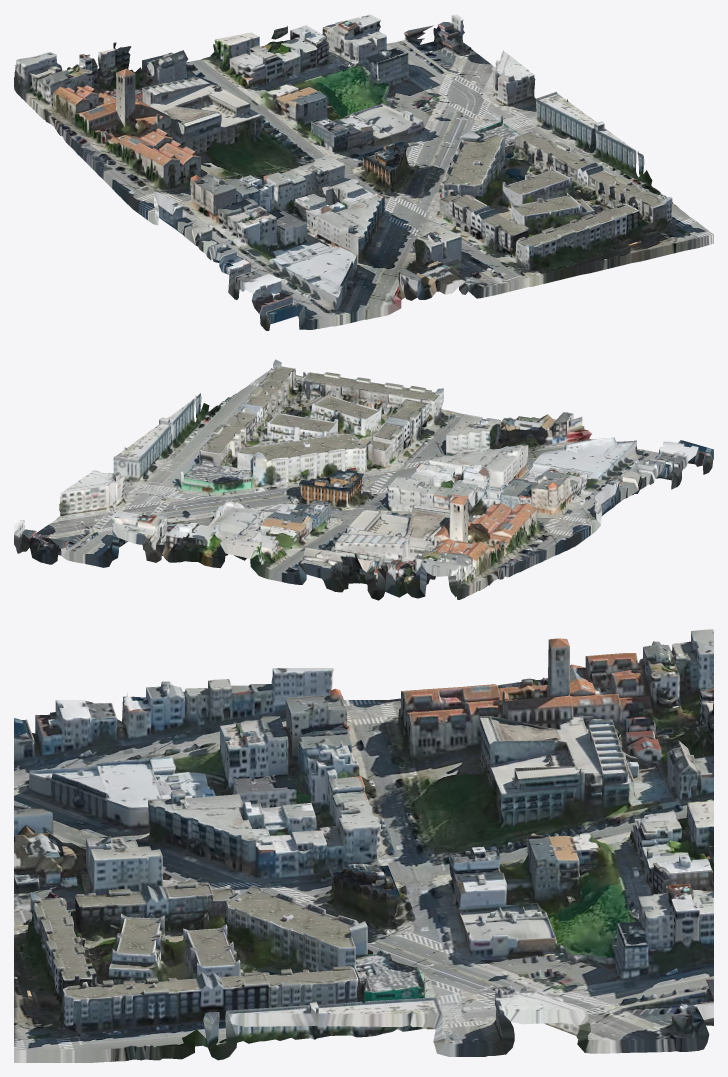
File: z17-20965-50648-h0-yup-uvflip-v3-world.glb
The picture shows the model from 3 angles, top to bottom: view 1: azimuth 30°, elevation 25°; view 2: azimuth 150°, elevation 25°; view 3: azimuth 270°, elevation 25°; orthographic projection. The views are drawn at different scales.
Size of the model in its own units: 241 by 64 by 243.
Materials: 1 (1 with a texture image).
